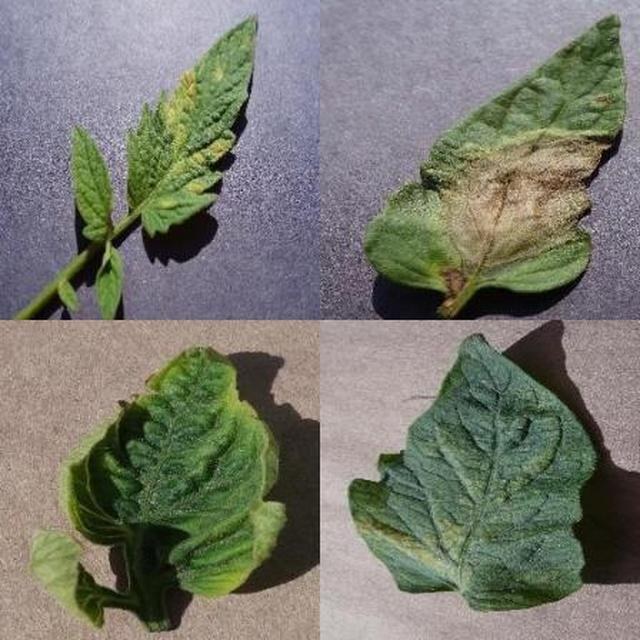Leaf Mold: (39, 105, 640, 640)
